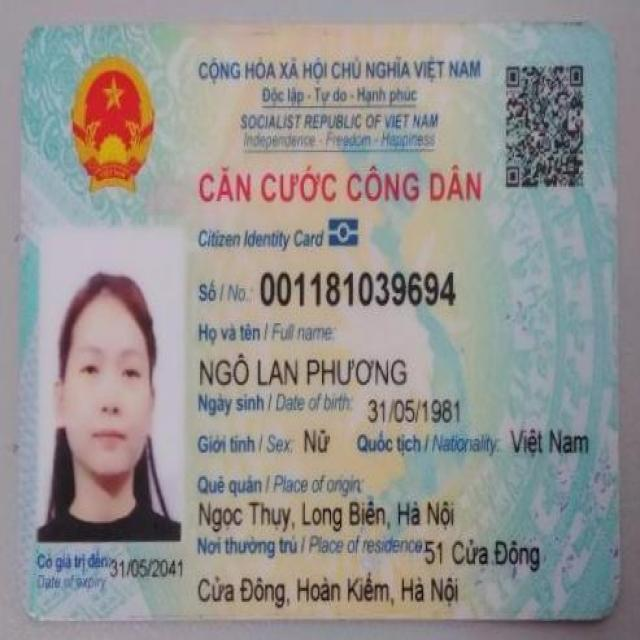current_place: (197, 567, 463, 613), (425, 534, 545, 572)
dob: (365, 396, 469, 425)
expire_date: (106, 553, 187, 582)
gender: (301, 423, 336, 458)
id: (259, 270, 461, 305)
name: (197, 346, 411, 388)
nationality: (507, 422, 594, 461)
origin_place: (192, 497, 464, 533)
qr: (496, 54, 594, 195)
